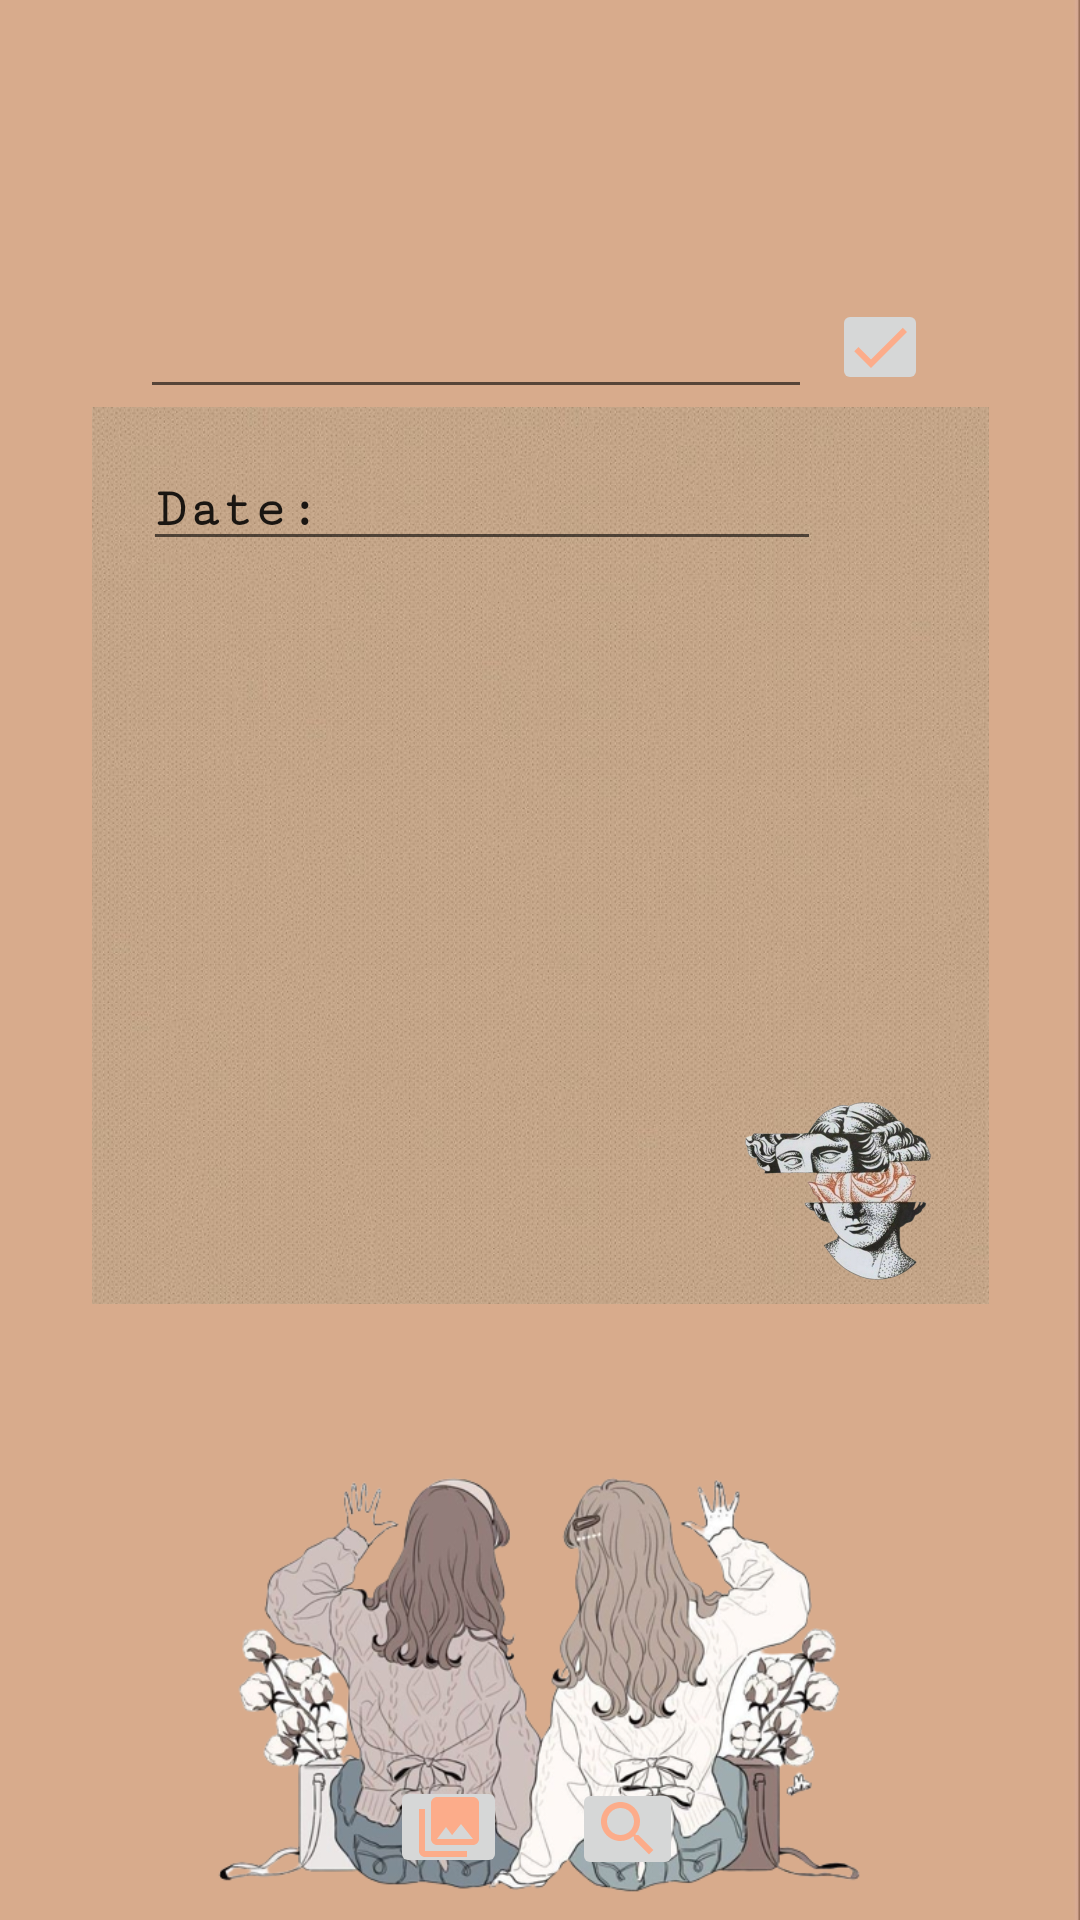

Where icons sit on this 1080×1920 app screen, as (x1, y1, x2, y2):
check: (844, 317, 916, 377)
